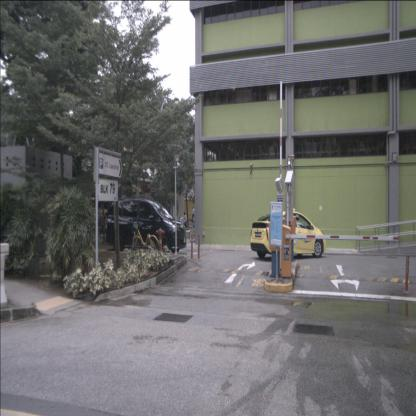human-pedestrian-adult: (106, 207, 112, 240), (183, 212, 188, 228), (192, 206, 195, 223)
movable_object-barrier: (0, 242, 10, 309)
vehicle-bicycle: (132, 221, 160, 252), (128, 220, 144, 253), (189, 222, 202, 242)
vehicle-car: (106, 198, 187, 253), (250, 211, 327, 258)
